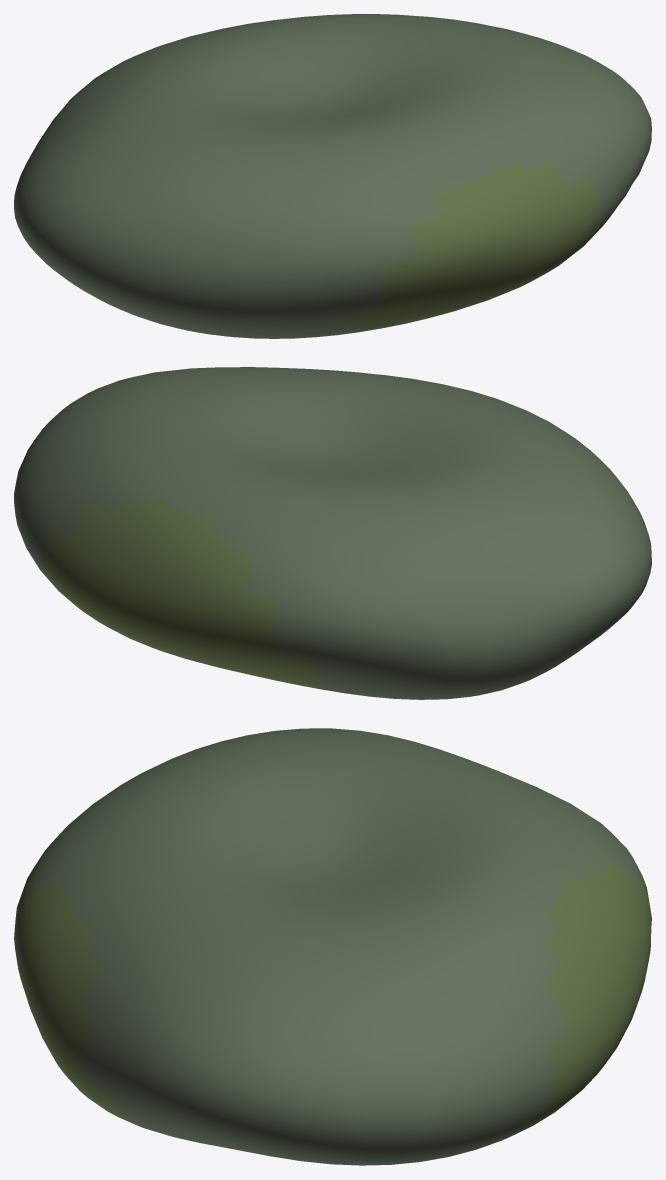
Rendered from Stone_07_Thumb.fbx.
The picture shows the model from 3 angles, top to bottom: view 1: azimuth 30°, elevation 25°; view 2: azimuth 150°, elevation 25°; view 3: azimuth 270°, elevation 25°; orthographic projection. The views are drawn at different scales.
Visible parts, largest first — view 1: Stone_07_Thumb; view 2: Stone_07_Thumb; view 3: Stone_07_Thumb.
Part boxes in pixels (<box>): Stone_07_Thumb: <box>14,14,651,338</box>; Stone_07_Thumb: <box>14,367,651,699</box>; Stone_07_Thumb: <box>14,728,651,1165</box>.
Size of the model in its own units: 0.0451 by 0.0155 by 0.0346.
